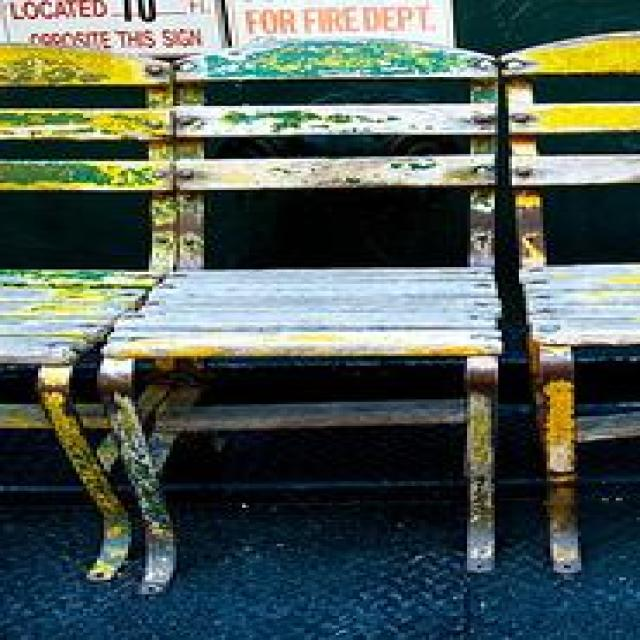chair: (101, 36, 505, 596)
